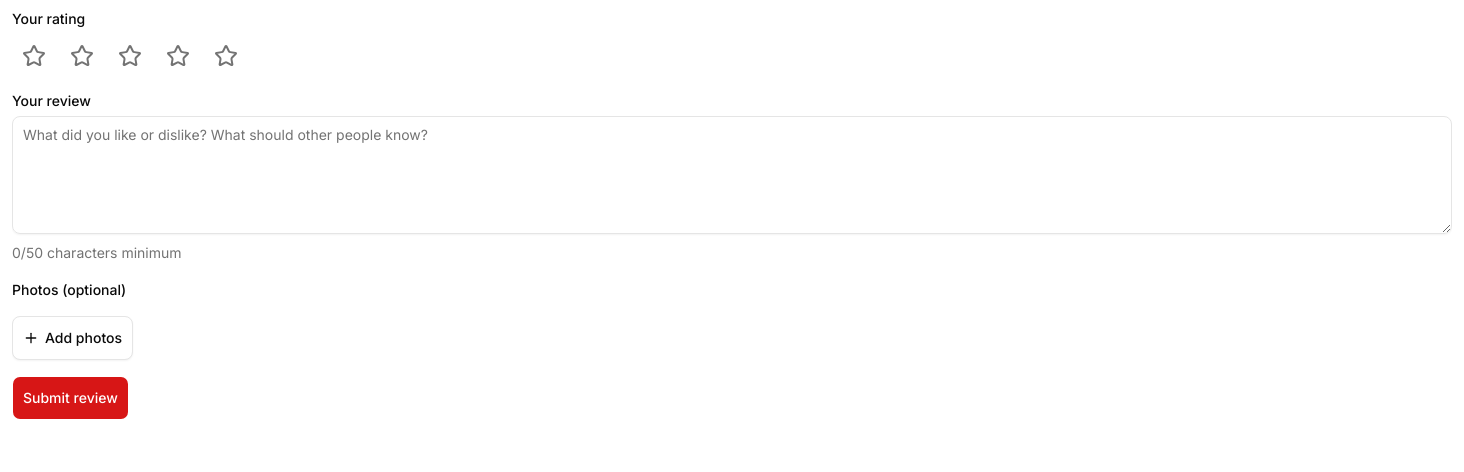
ReviewComposer › shows the API's verbatim error message on a validation/MOD-01 failure
Click the radio button named "Rate 3 stars".
click(130, 56)  # box [108,34,152,78]
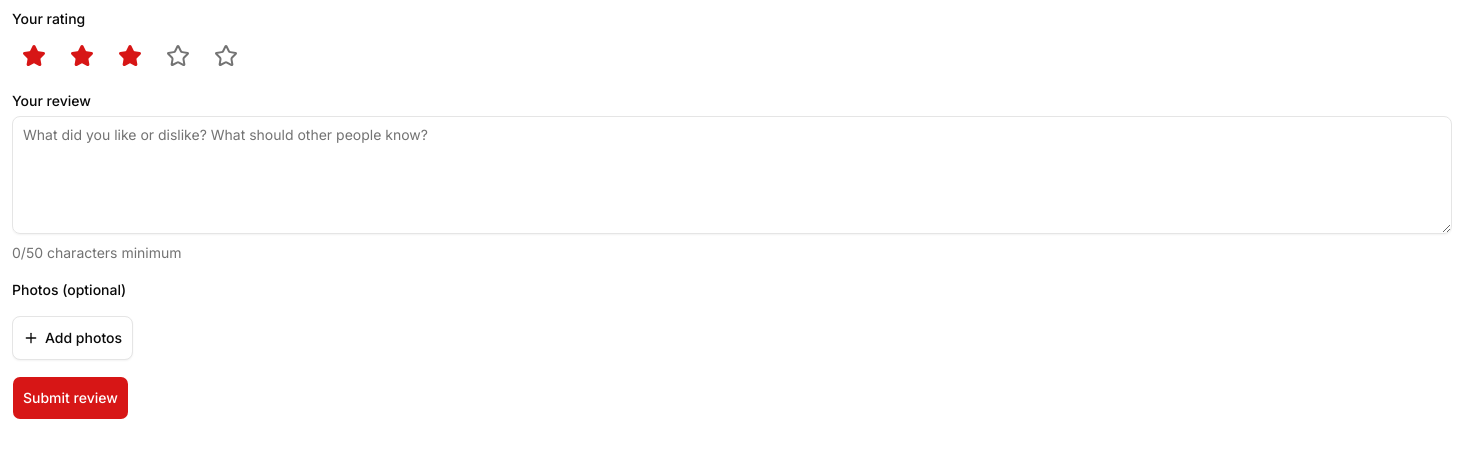
Type "This place has great food, friendly staff, and a cozy atmosphere that keeps me coming back." into the text box labelled "Your review".
click(732, 175); type("This place has great food, friendly staff, and a cozy atmosphere that keeps me coming back.")  # box [12,116,1452,234]
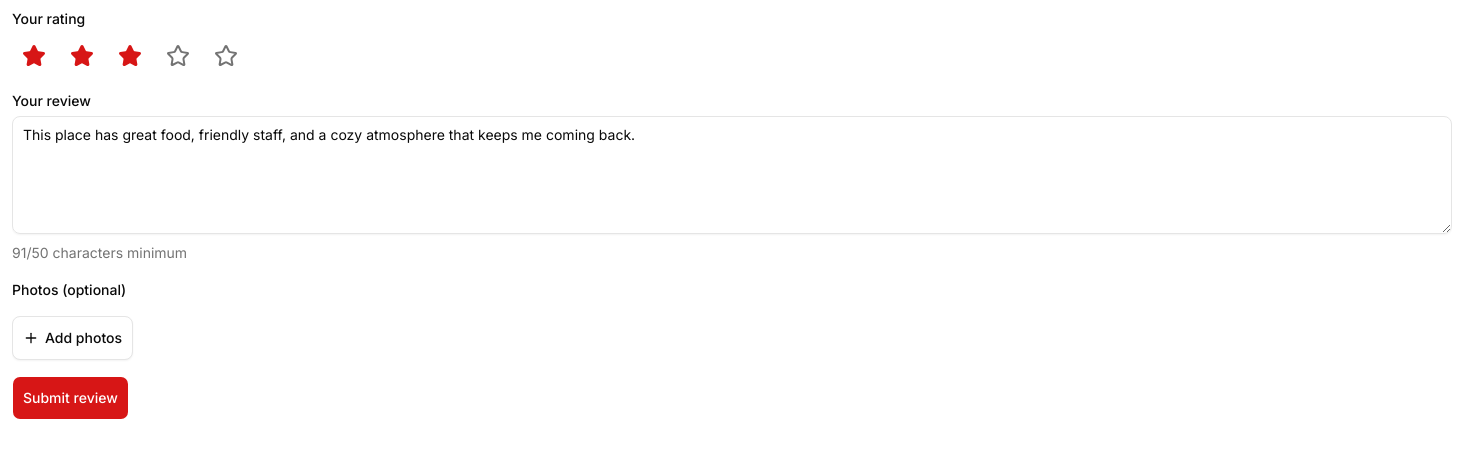
Click the button "Submit review".
click(70, 398)  # box [12,376,129,420]
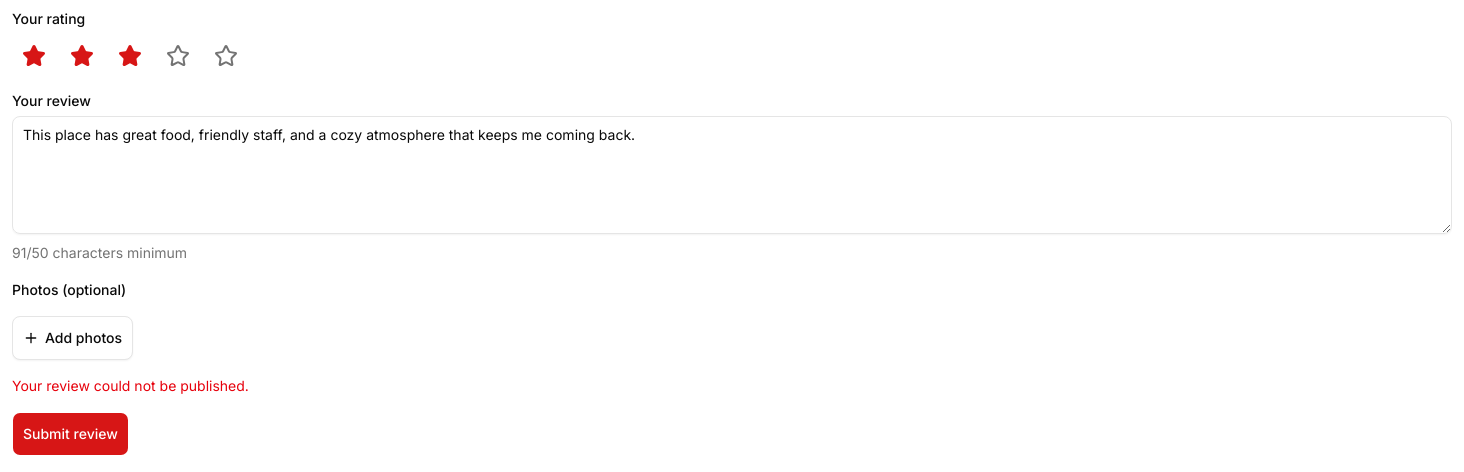
Check: the text "Your review could not be published." is shown, box [12,377,249,394]
